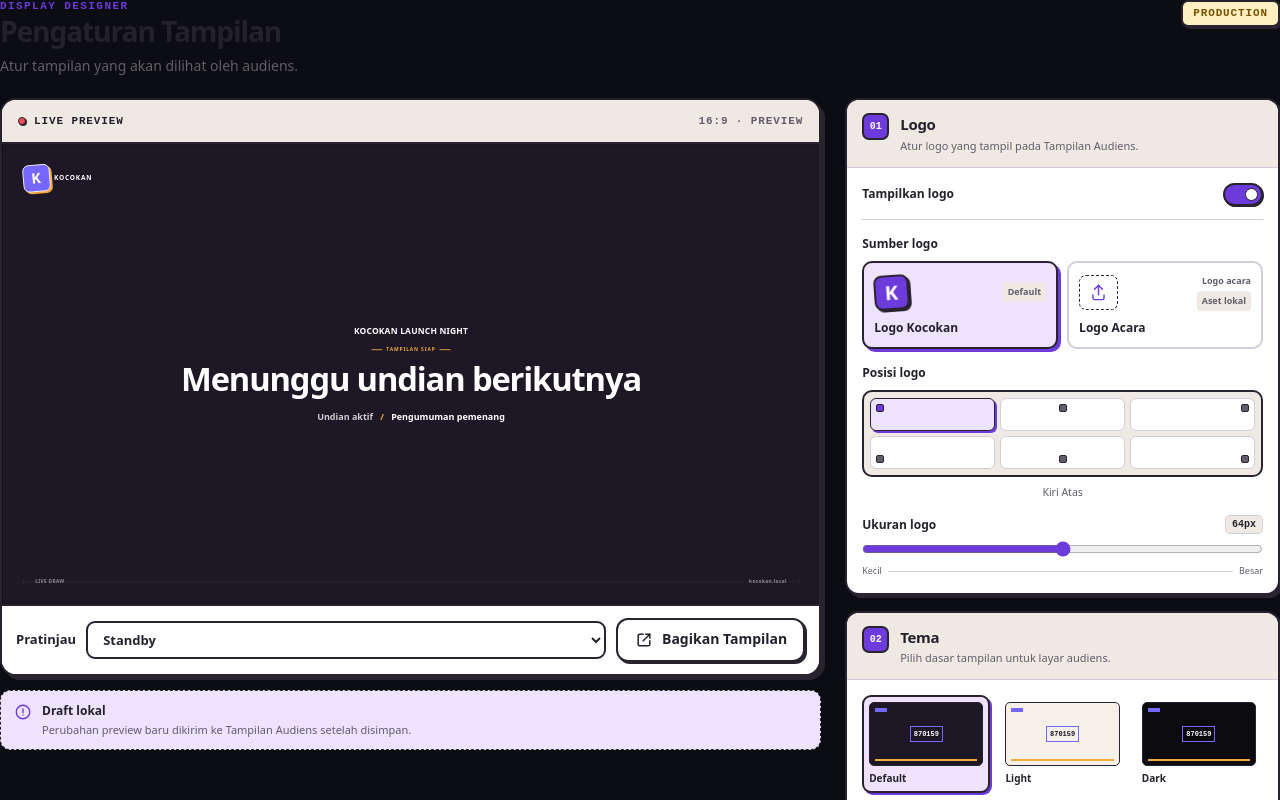
Test: DisplayDesignerPrototypePage › does not publish an unsaved draft and applies it only after save
This screenshot has width=1280, height=800.
Click the button named "Kanan Bawah" at (1193, 452), box [1130,436,1255,468]
(page scrolled)
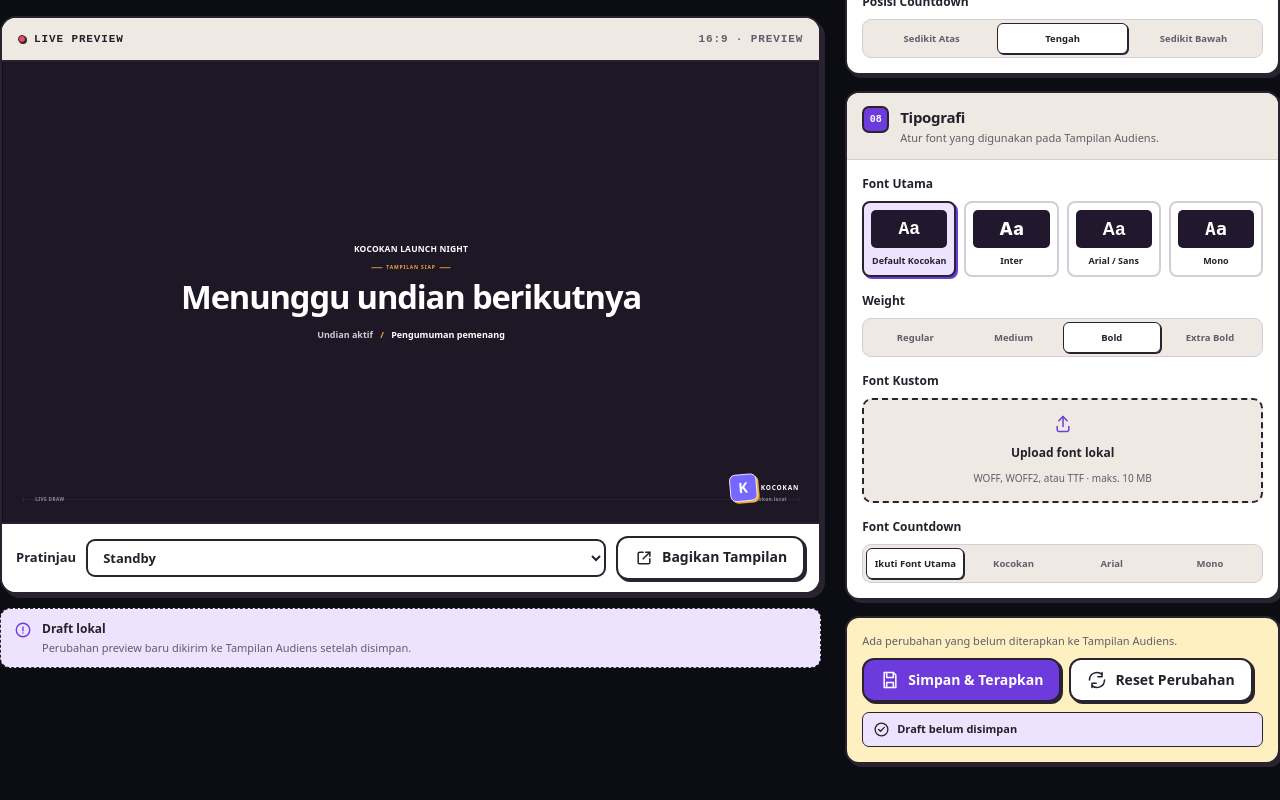
Check: the text "Draft belum disimpan" is shown, box [862,712,1263,747]
Click the button "Simpan & Terapkan" at (962, 680), box [862,658,1061,702]
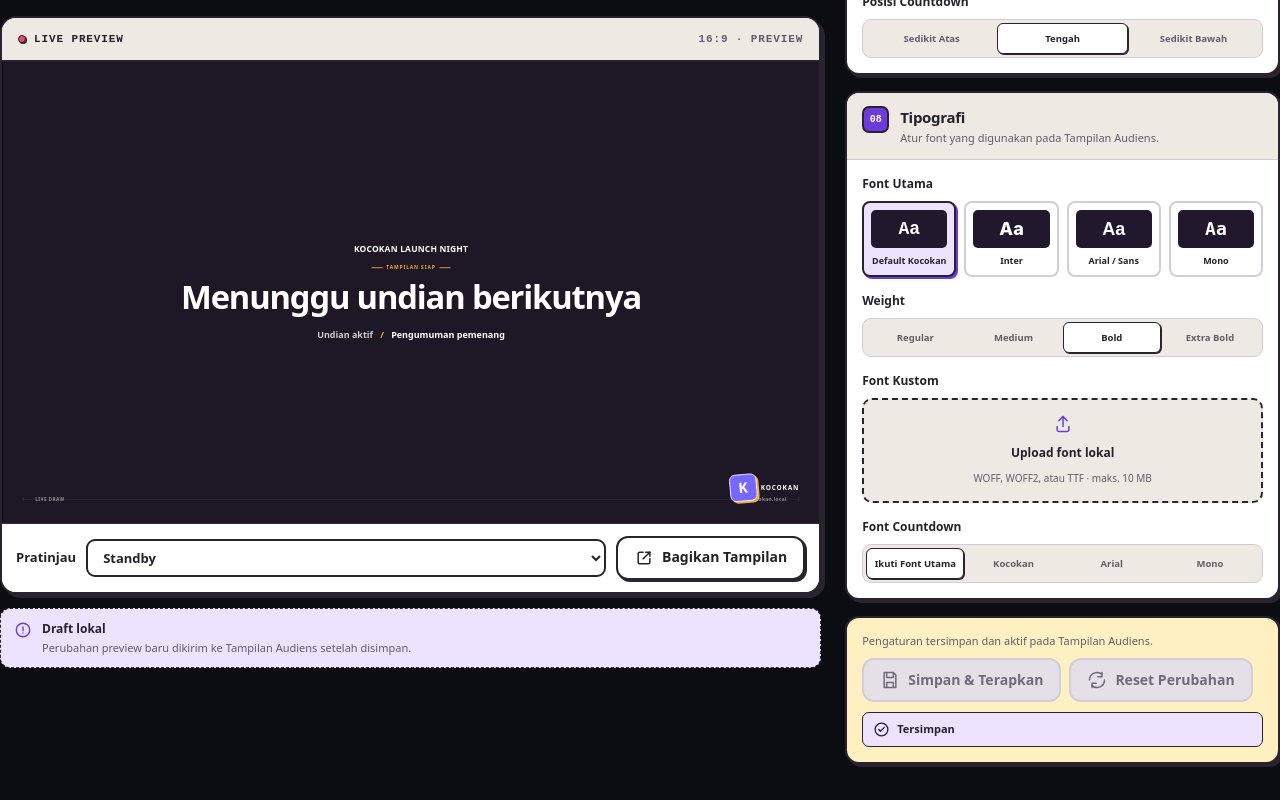
Check: the text "Tersimpan" is shown, box [862,712,1263,747]
